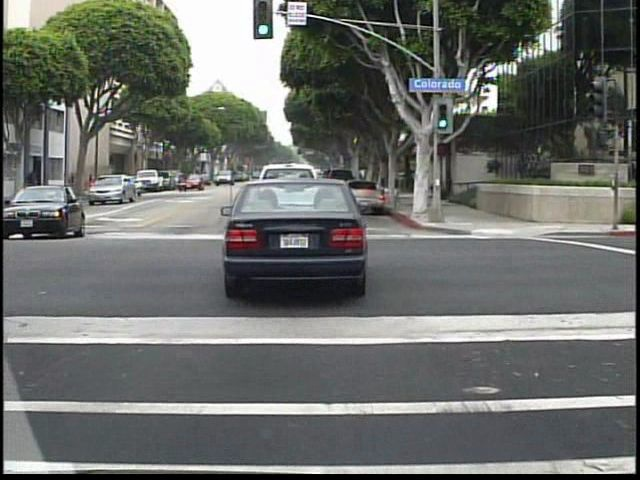person: (22, 169, 41, 208)
